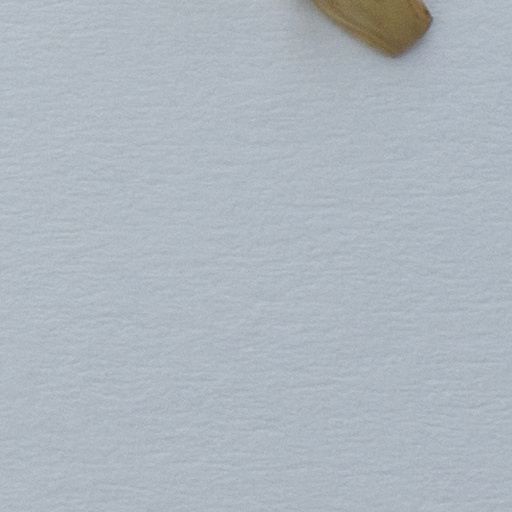Peel-poly: (307, 0, 434, 54)
